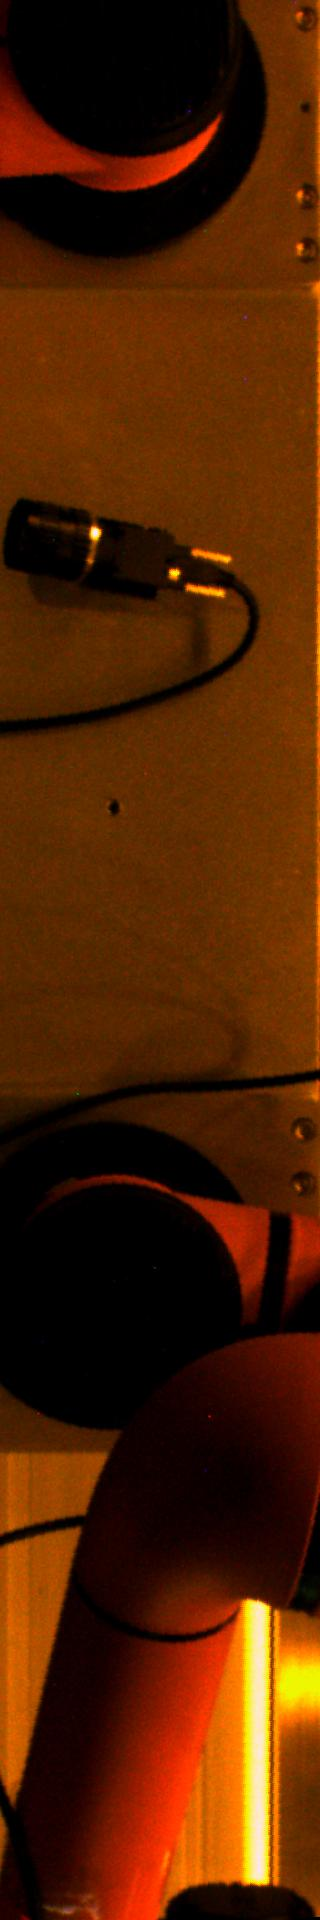keyPoint_2: (98, 793, 128, 823)
